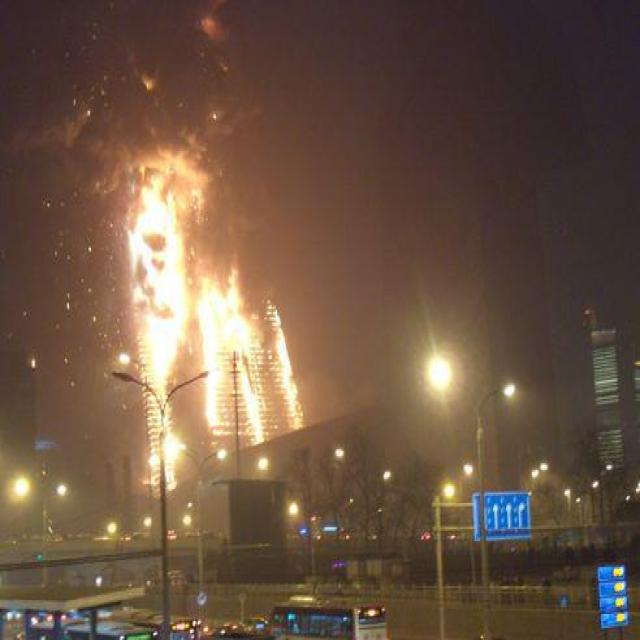fire: (111, 177, 326, 477)
other: (524, 442, 624, 508), (164, 436, 231, 472), (420, 338, 454, 404), (435, 453, 477, 501), (483, 366, 528, 408), (7, 462, 38, 495), (135, 441, 164, 471), (45, 476, 72, 506), (176, 506, 206, 528), (330, 434, 348, 464), (95, 513, 120, 531), (284, 498, 306, 518), (114, 348, 132, 370), (140, 509, 158, 529), (376, 467, 393, 485)
